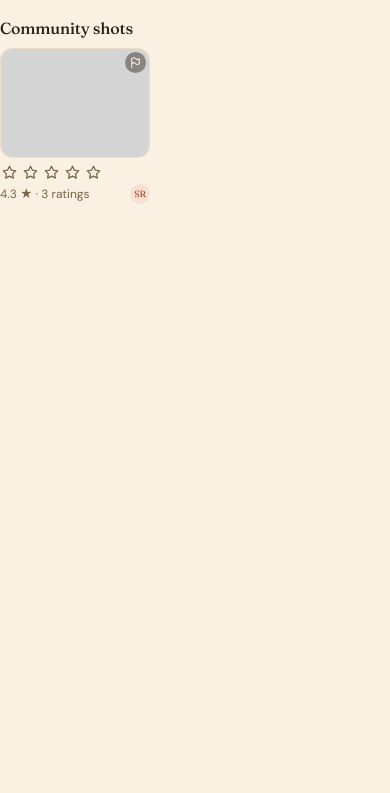
Test: blocking a photographer › surfaces the guard message when the block is refused
Click the button named "report this shot" at x=136, y=62, box x1=125 y1=52 x2=146 y2=73
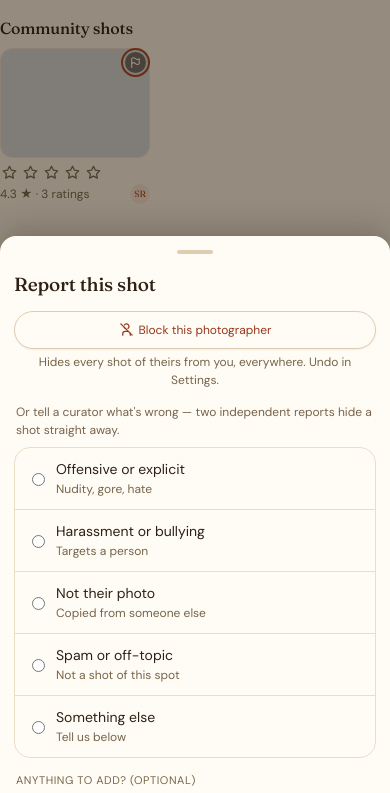
Click the button "Block this photographer" at x=195, y=330, box x1=14 y1=311 x2=376 y2=349
(page scrolled)
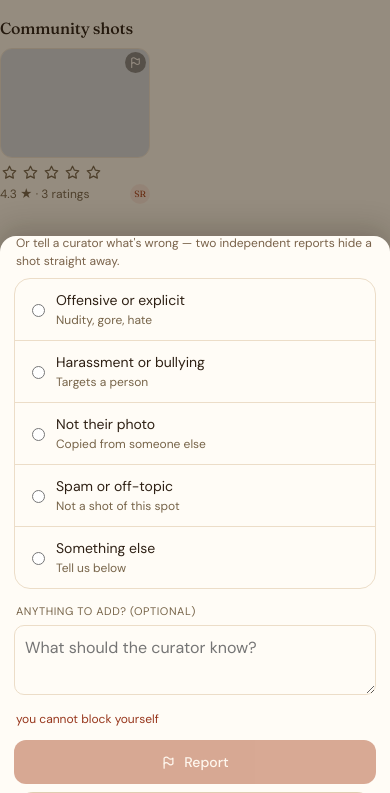
Now the text "you cannot block yourself" is shown, box x1=16 y1=711 x2=159 y2=727
